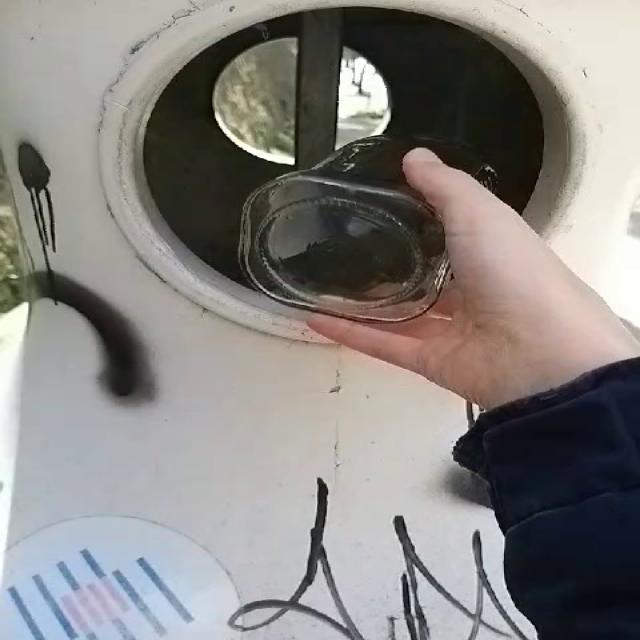Glass: (239, 135, 497, 322)
